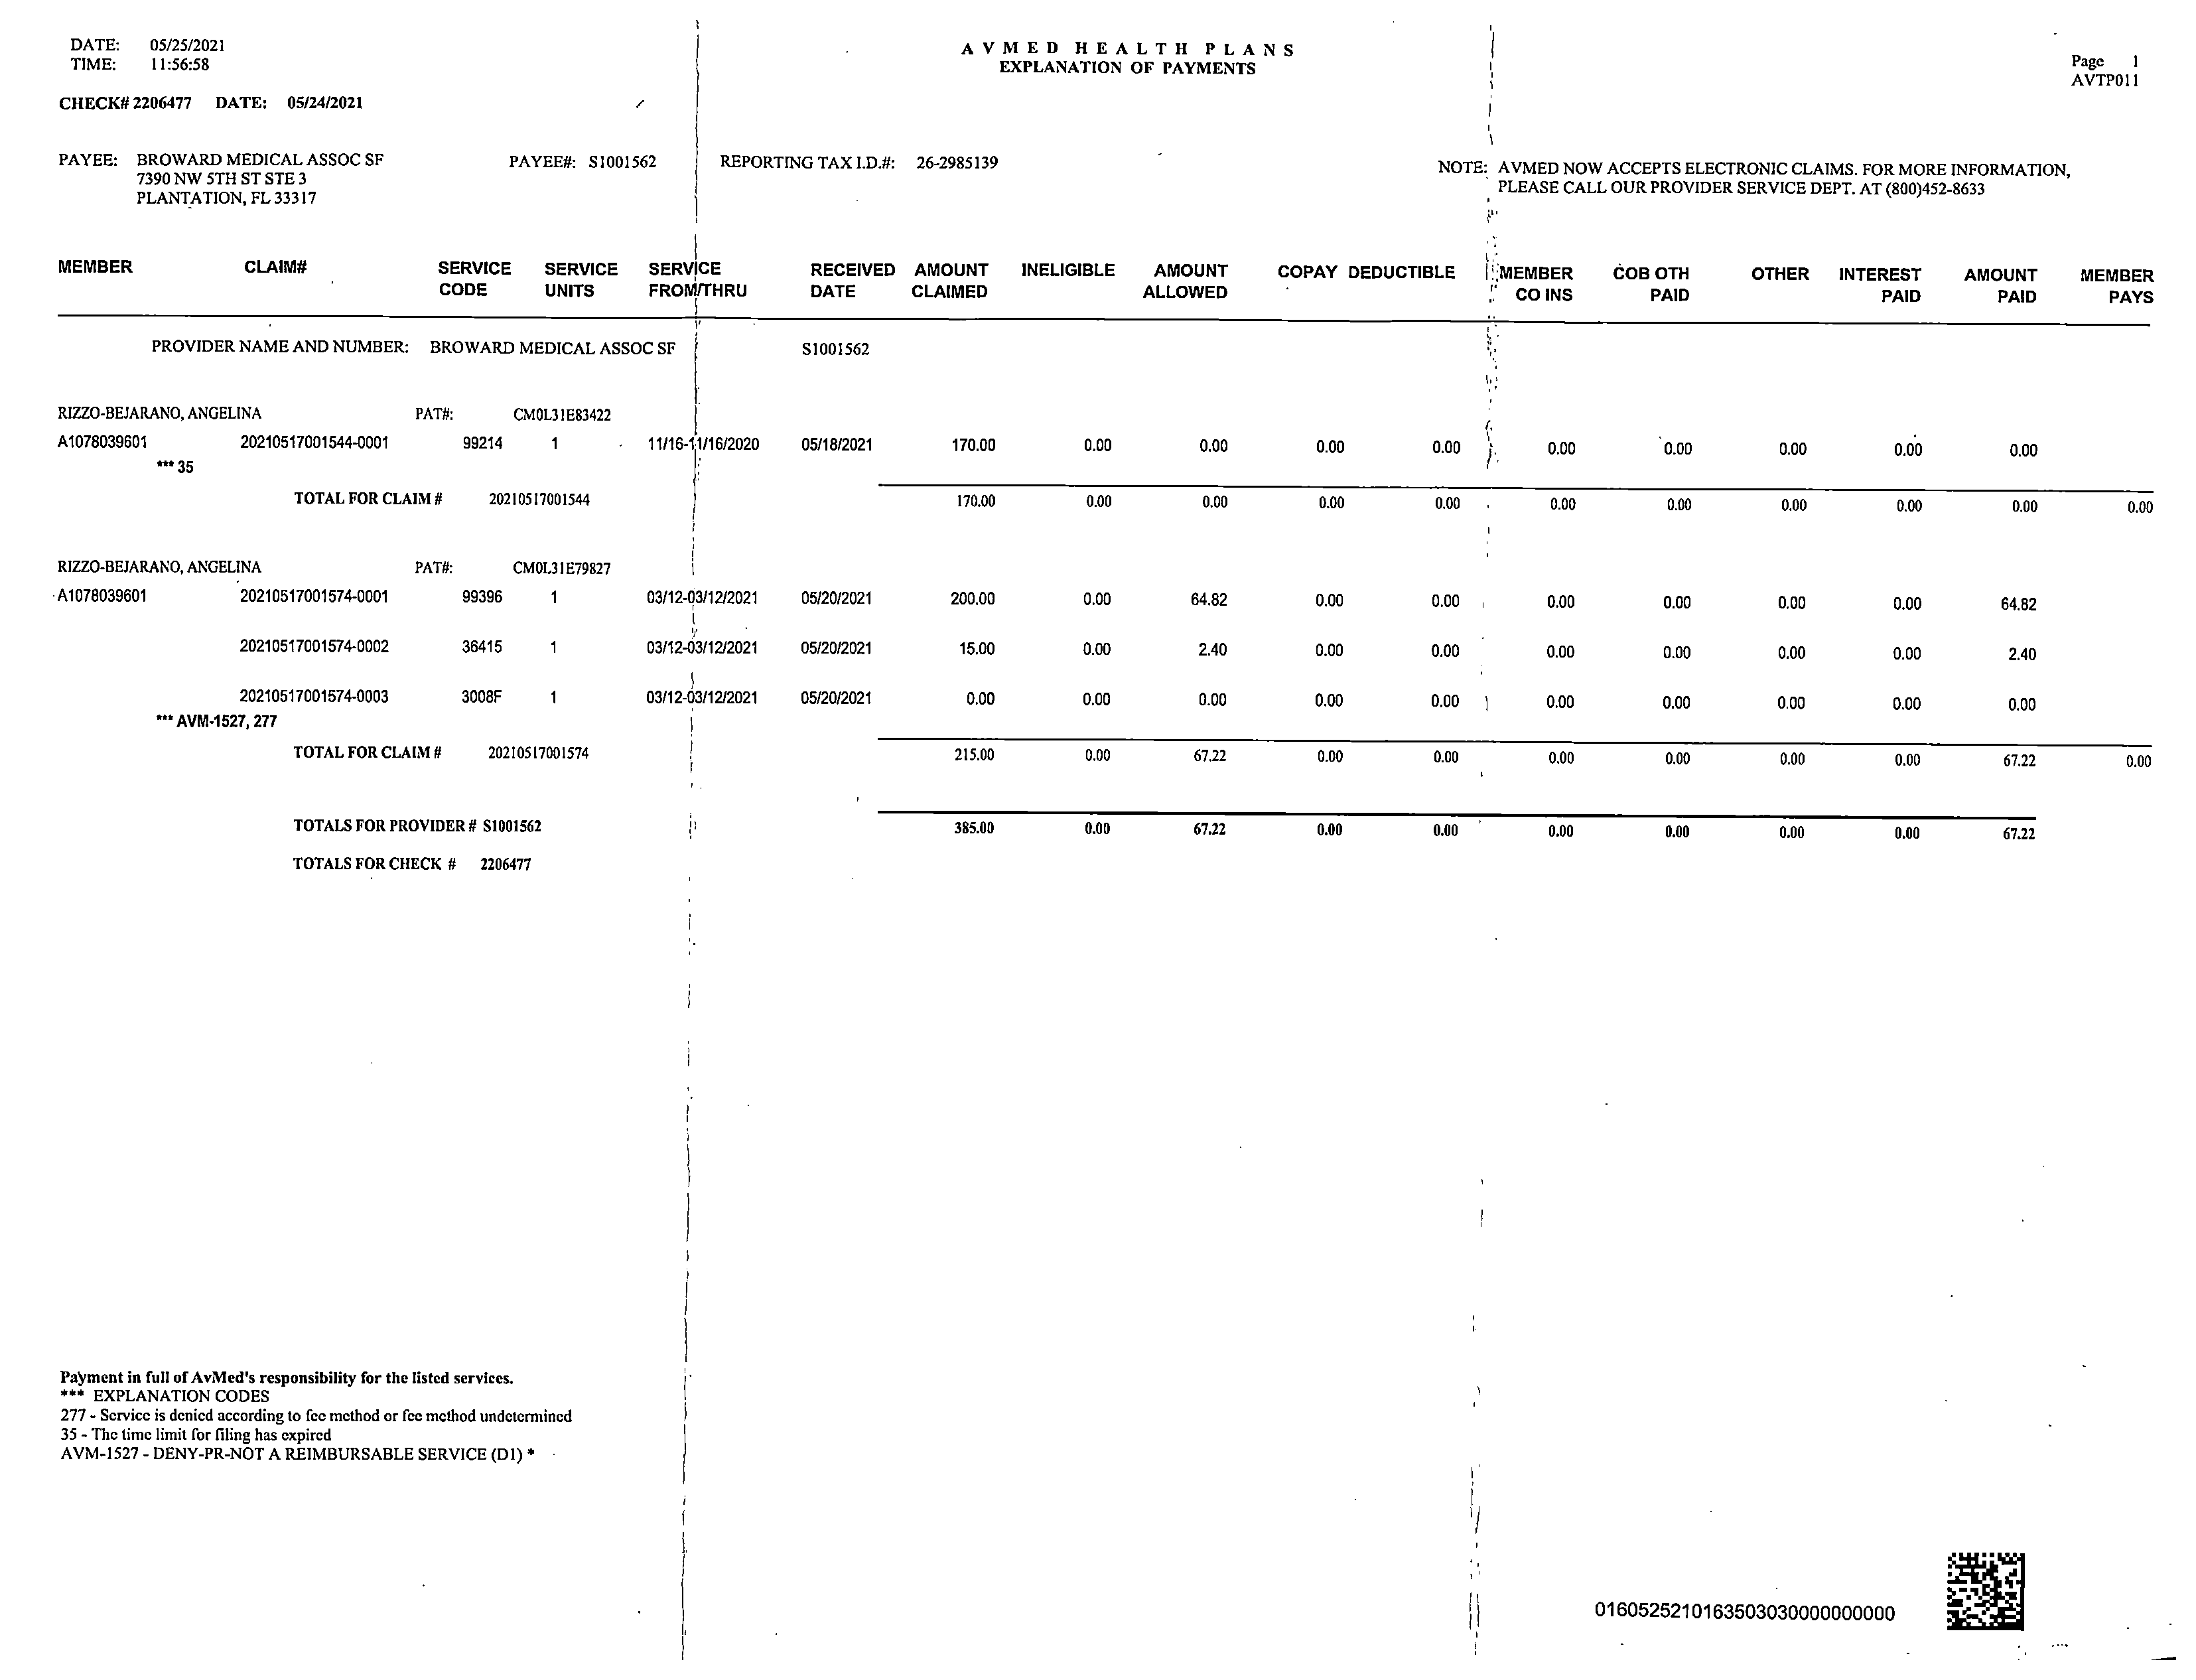data: (48, 81, 402, 214), (506, 127, 1032, 196)
table: (46, 244, 2168, 886)
